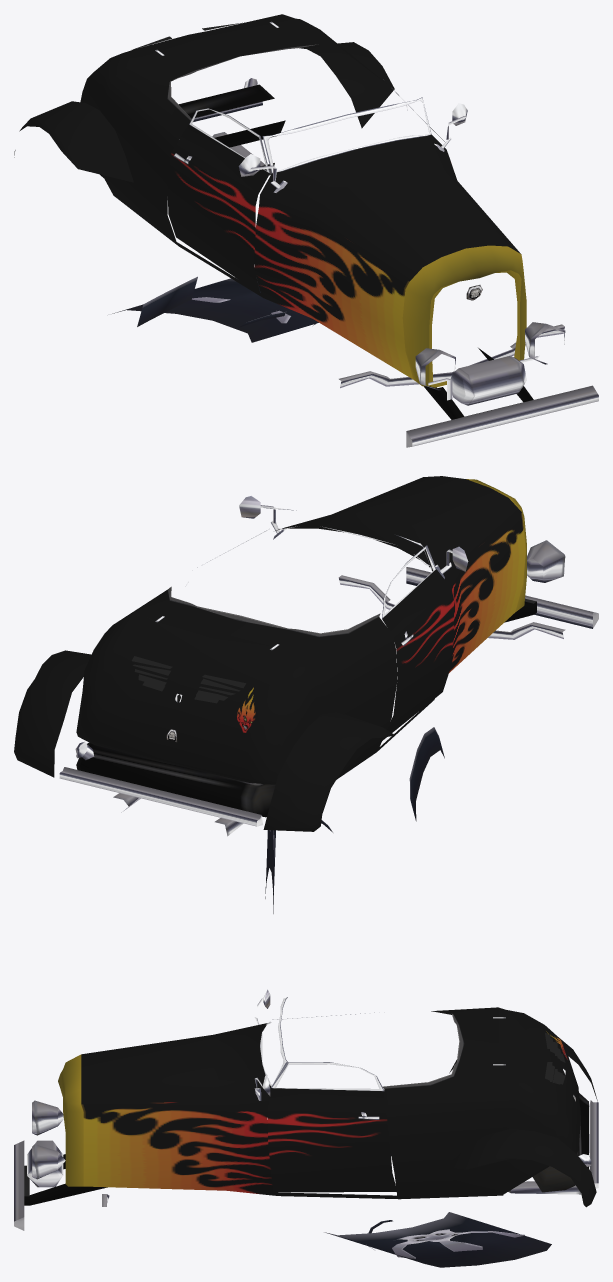
The model's file is car-SUPR_Car13.glb.
3 views of the same model, one above another, from view 1: azimuth 30°, elevation 25°; view 2: azimuth 150°, elevation 25°; view 3: azimuth 270°, elevation 25° (orthographic). The views are drawn at different scales.
Parts seen in each view (by area): view 1: SUPR_Car13; view 2: SUPR_Car13; view 3: SUPR_Car13.
Boxes of the visible parts, <box> form: SUPR_Car13: <box>14,14,598,447</box>; SUPR_Car13: <box>14,476,598,913</box>; SUPR_Car13: <box>14,989,598,1267</box>.
Bounding box in the file's own units: 2.22 × 2.04 × 4.14.
Materials: 10 (10 with a texture image).
